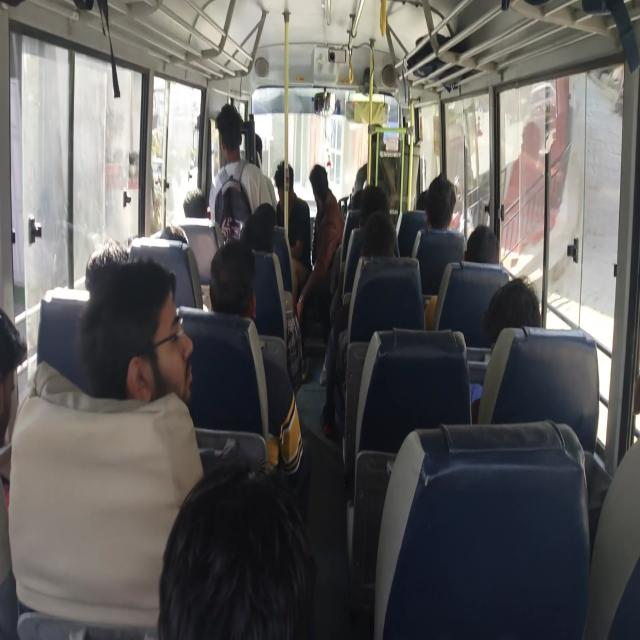person: (7, 256, 204, 638), (157, 458, 315, 639), (208, 240, 303, 479), (320, 211, 398, 437), (78, 255, 194, 406), (469, 275, 542, 423), (208, 103, 277, 236), (0, 307, 27, 638), (501, 120, 561, 264), (296, 164, 344, 321), (411, 173, 465, 296), (273, 161, 311, 287), (209, 240, 256, 319), (424, 173, 456, 231), (464, 225, 499, 264), (182, 187, 208, 218)
